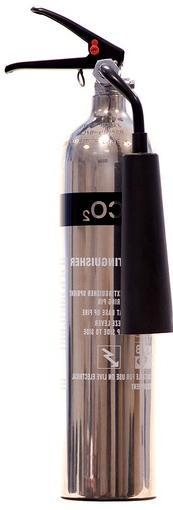Fire Extinguisher: (10, 4, 173, 510)
